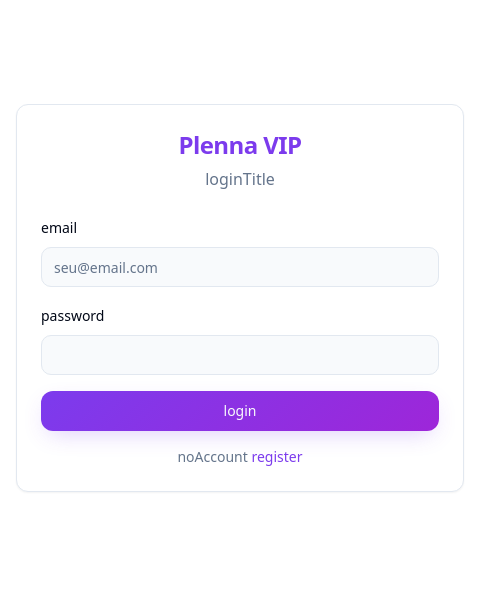
Pages › renders auth pages and updates fields
Type "user@example.com" into the field labelled "email" at coordinates (240, 267), box [41,247,439,287]
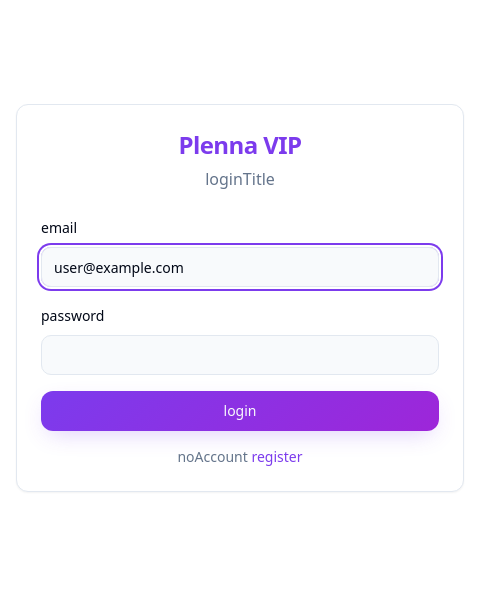
Type "secret" into the password field labelled "password" at coordinates (240, 355), box [41,335,439,375]
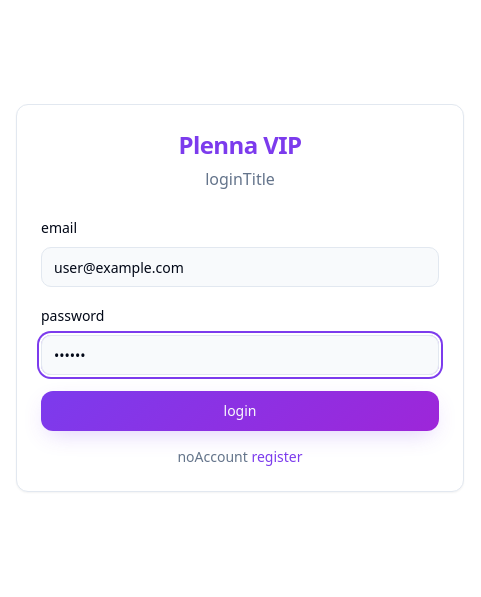
Click the link "register" at coordinates (277, 456), box [252,447,303,466]
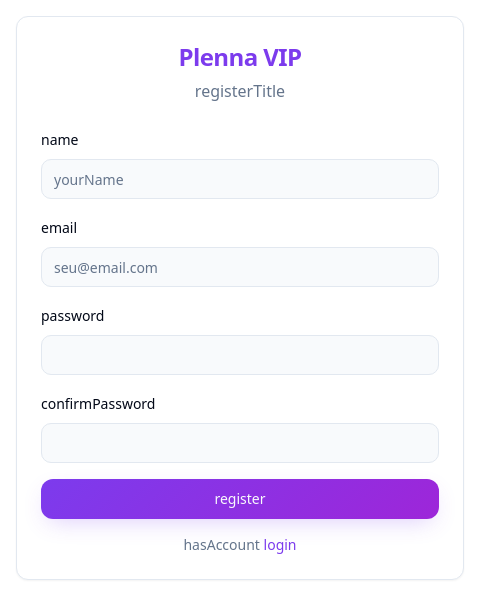
Now the text "registerTitle" is shown, box [195,80,285,102]
